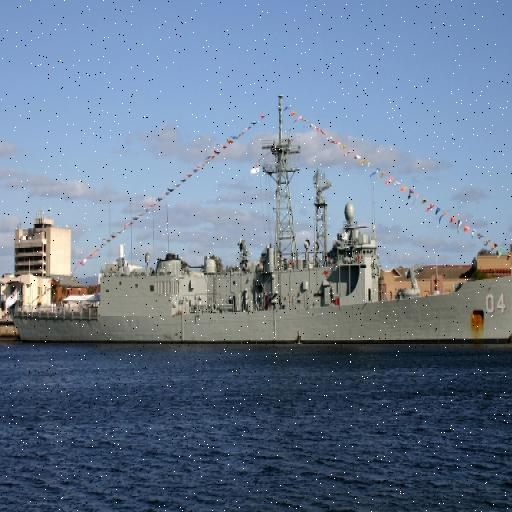Fragata: (9, 85, 512, 344)
